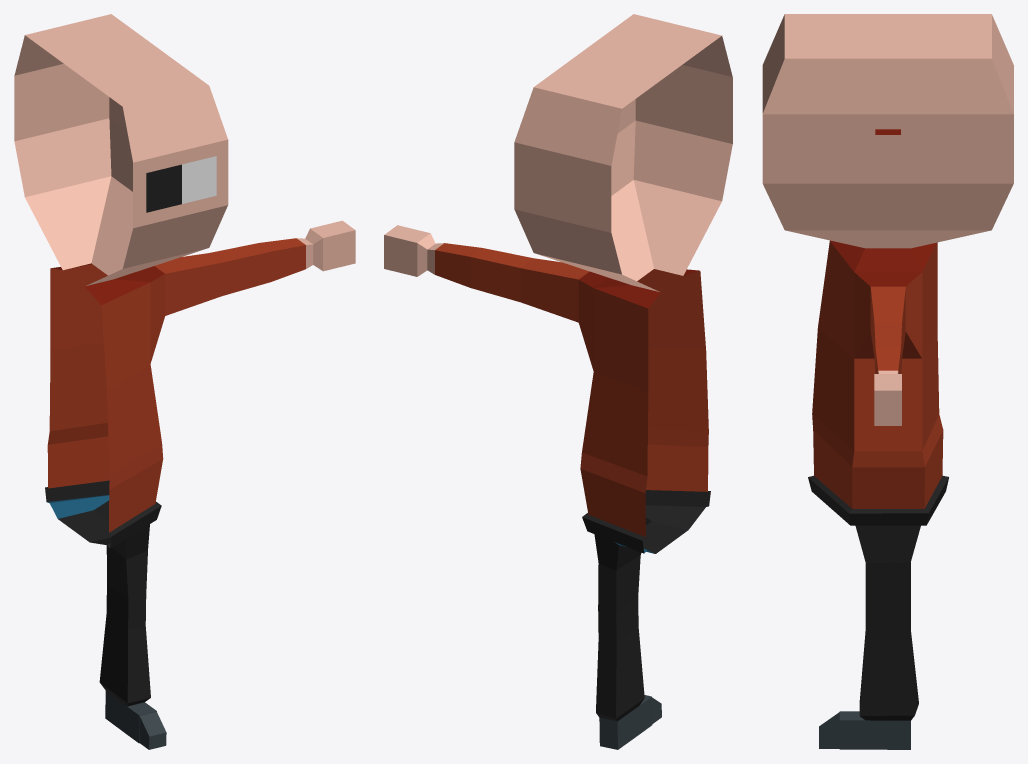
Rendered from man.glb.
3 renders of one model, left to right at view 1: azimuth 30°, elevation 25°; view 2: azimuth 150°, elevation 25°; view 3: azimuth 270°, elevation 25°, orthographic. The views are drawn at different scales.
Parts seen in each view (by area): view 1: Cube; view 2: Cube; view 3: Cube.
Part boxes in pixels (<box>): Cube: <box>14,14,355,749</box>; Cube: <box>384,14,732,749</box>; Cube: <box>762,14,1013,749</box>.
Bounding box in the file's own units: 2.31 × 5.35 × 1.74.
Materials: 1 (1 with a texture image).
